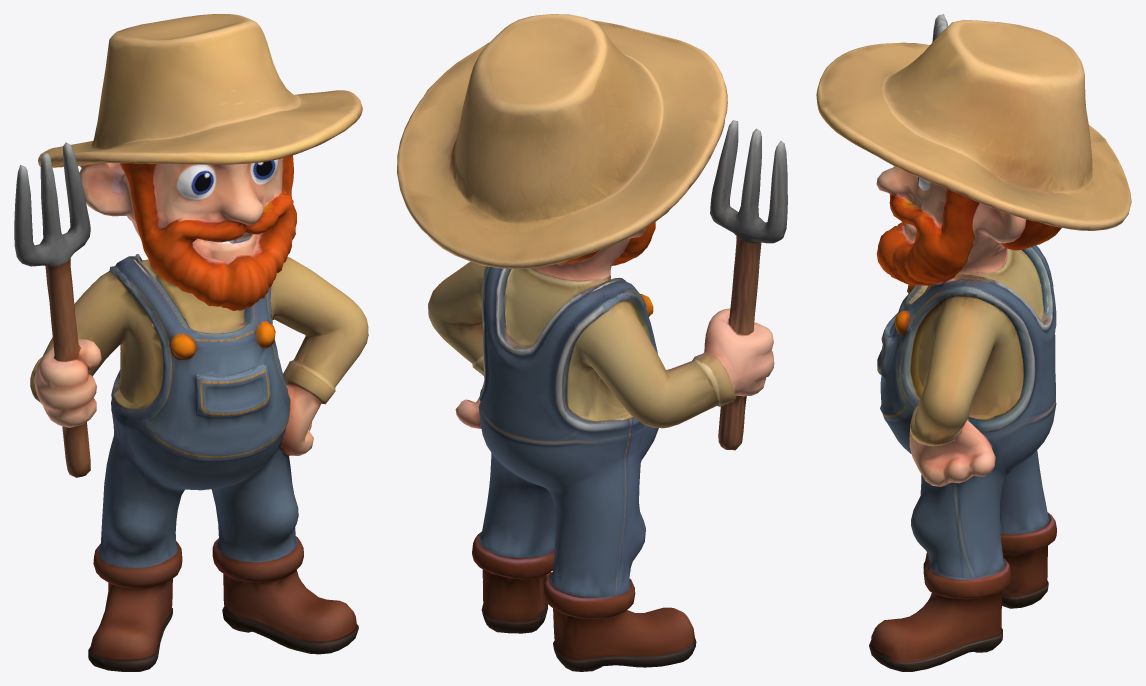
File: worker.glb
The picture shows the model from 3 angles, left to right: view 1: azimuth 30°, elevation 25°; view 2: azimuth 150°, elevation 25°; view 3: azimuth 270°, elevation 25°; orthographic projection. The views are drawn at different scales.
Bounding box in the file's own units: 1.15 × 1.91 × 0.9236.
Materials: 1 (1 with a texture image).
